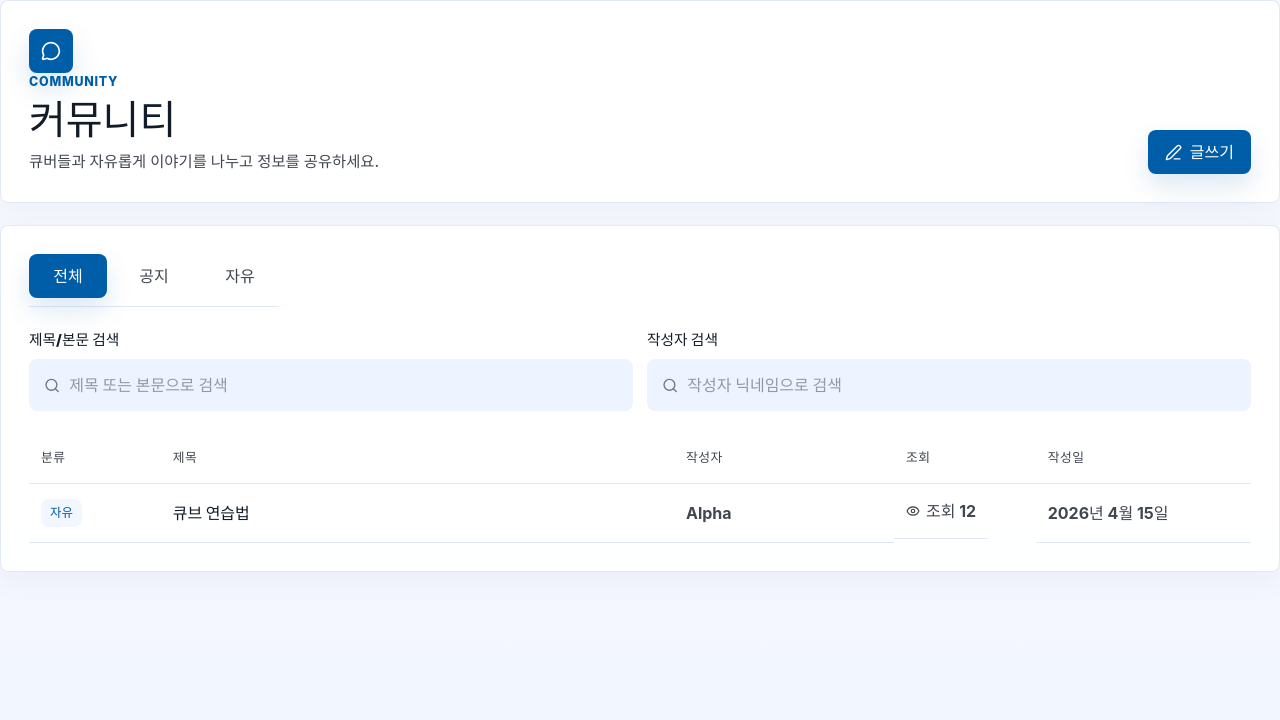
Test: CommunityPage › should_only_request_last_filters_once_when_search_inputs_change_quickly
Expected: the text "큐브 연습법" is shown, [161,483,674,543]
Type "큐" into the field labelled "제목/본문 검색".
click(344, 385); type("큐")  # box [69,373,618,397]
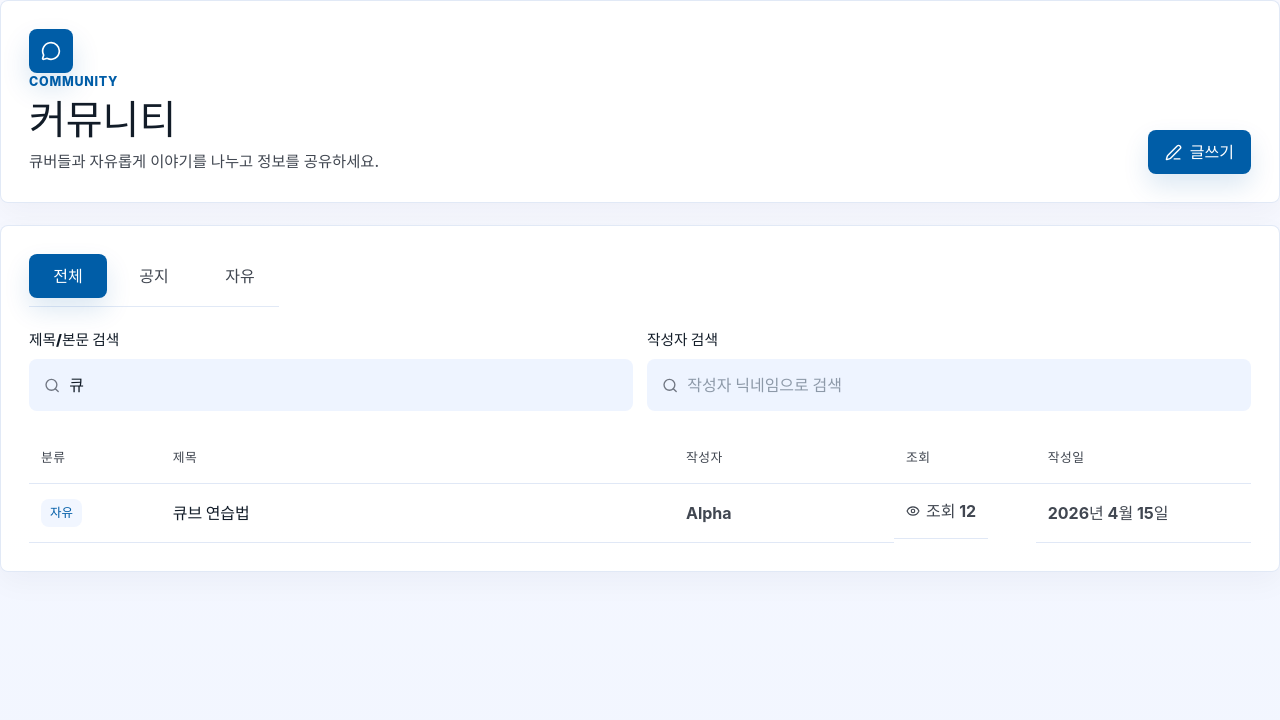
Replace the text in the field labelled "제목/본문 검색" with "큐브" at (344, 385), box [69,373,618,397]
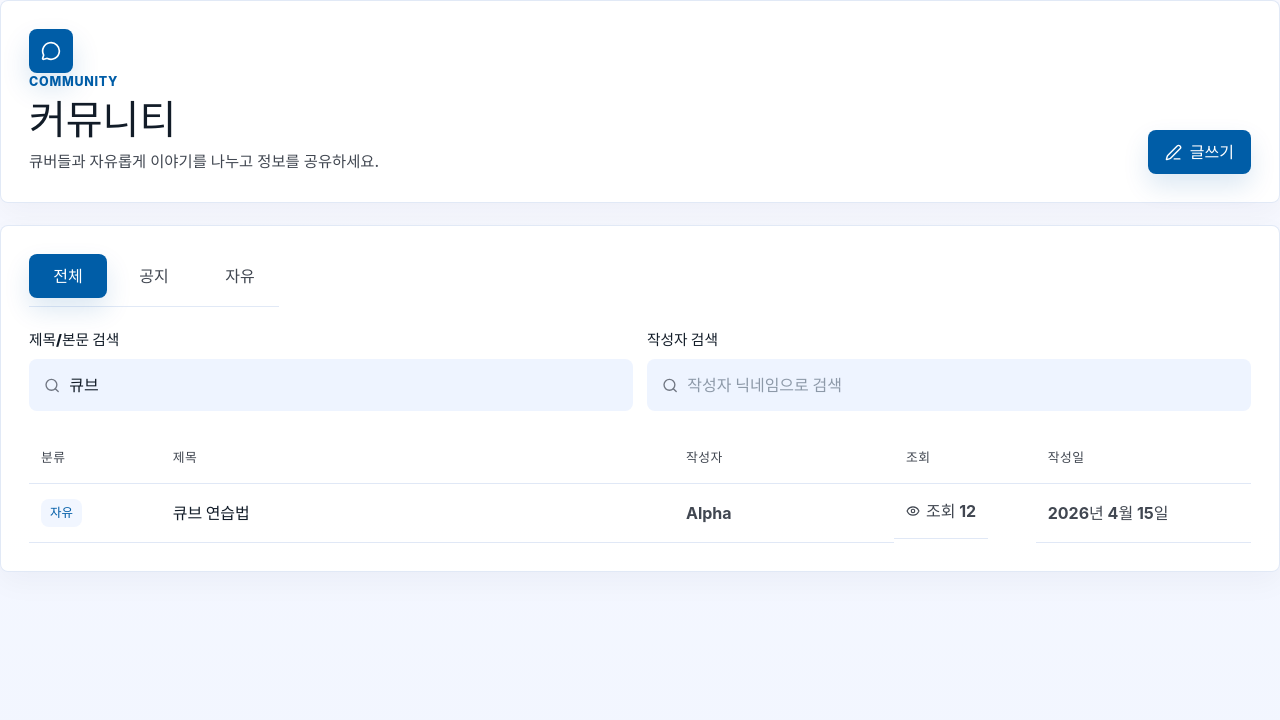
Type "Alpha" into the field labelled "작성자 검색".
click(962, 385); type("Alpha")  # box [687,373,1236,397]
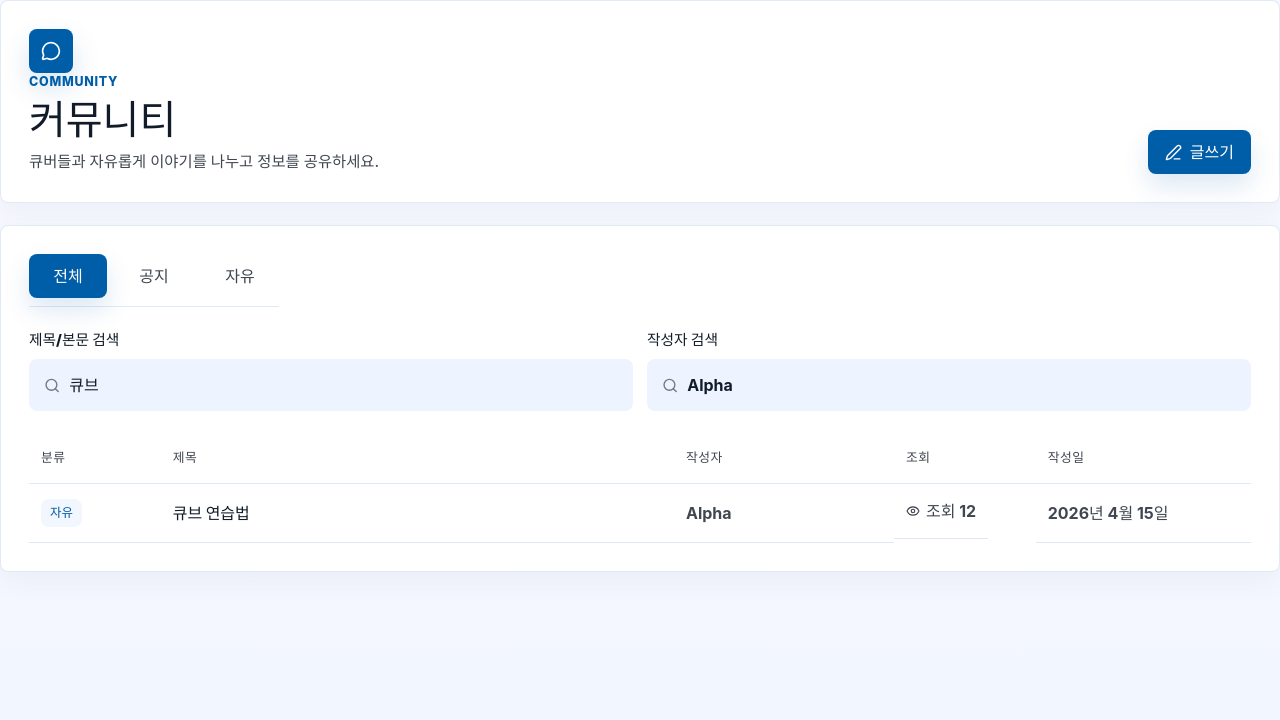
Replace the text in the field labelled "작성자 검색" with "AlphaAdmin" at (962, 385), box [687,373,1236,397]
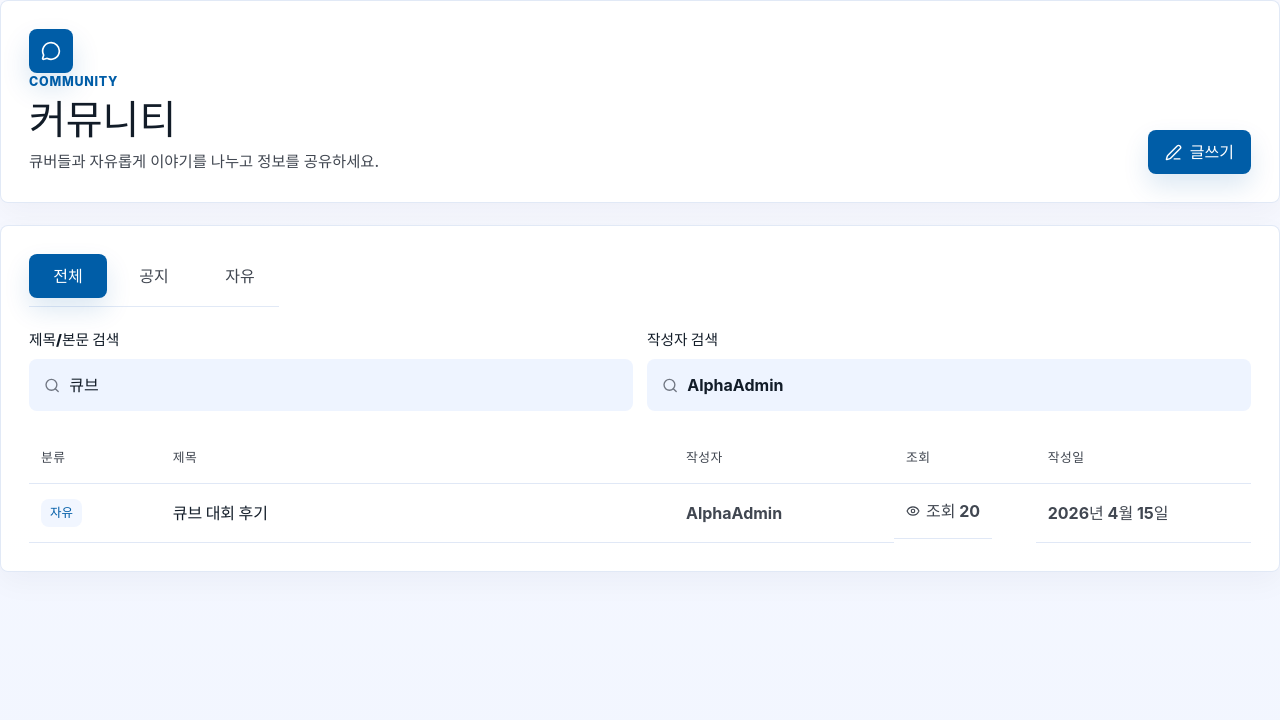
Result: the text "큐브 대회 후기" is shown at [161,483,674,543]
